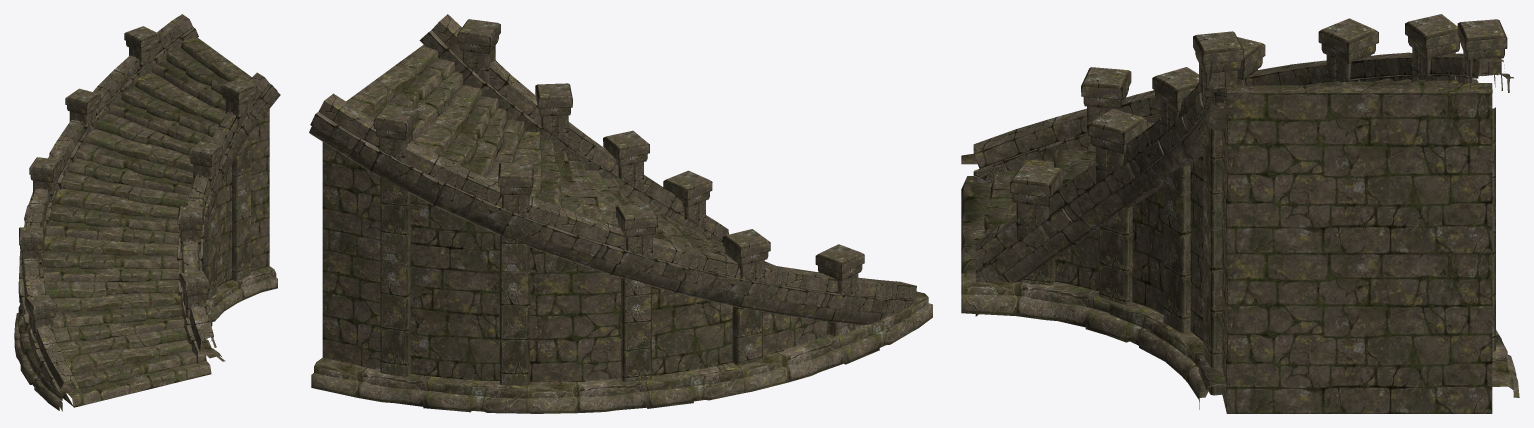
File: Preset_Staircase_Rounded_01-transformed.glb
3 views of the same model, side by side, from view 1: azimuth 30°, elevation 25°; view 2: azimuth 150°, elevation 25°; view 3: azimuth 270°, elevation 25° (orthographic). The views are drawn at different scales.
Parts seen in each view (by area): view 1: default; view 2: default; view 3: default.
Part boxes in pixels (x1,y1,x2,y2): default: (14,14,280,411); default: (309,14,932,413); default: (961,14,1519,413).
Bounding box in the file's own units: 13.01 × 9.07 × 12.61.
Materials: 6 (6 with a texture image).
